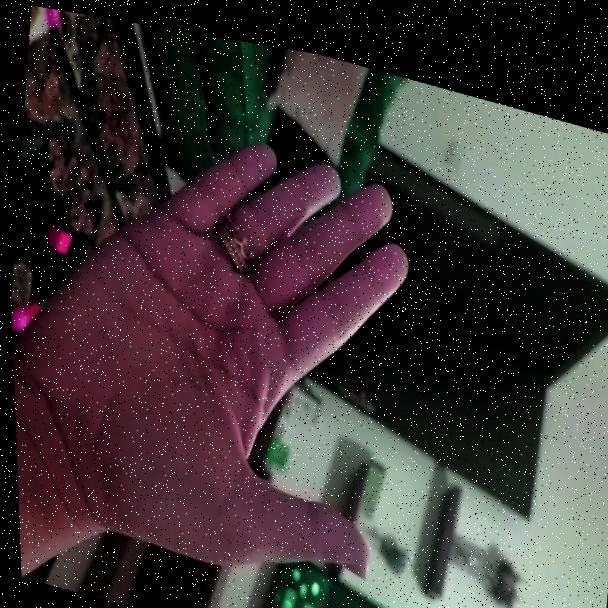five: (19, 70, 429, 608)
